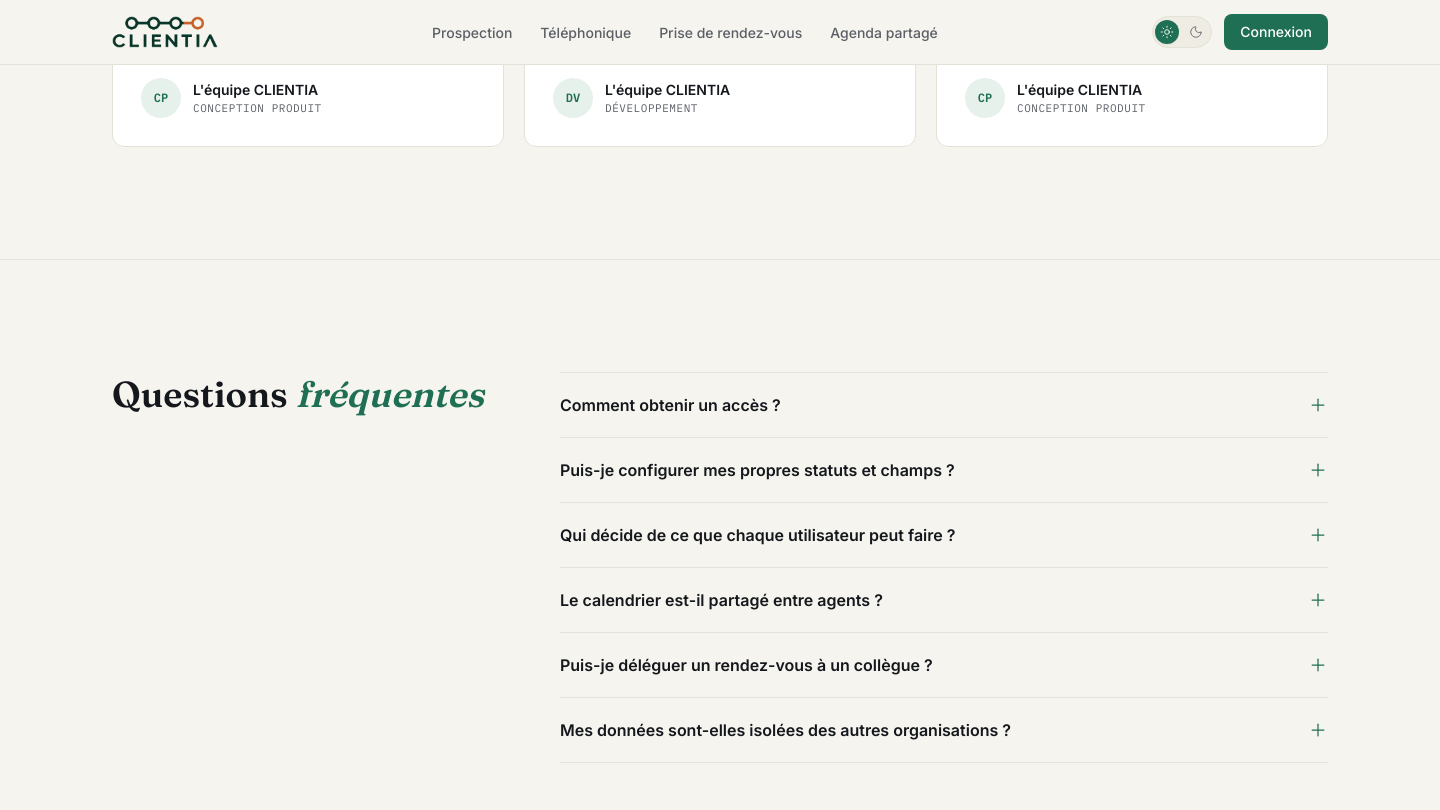
LandingPage › FAQ : 6 questions en accordéon natif, fermées par défaut, ouvertes au clic
(page scrolled)
What coordinates should you click on to do the following:
click the heading "Comment obtenir un accès ?"
I would click on:
 (670, 405)
Its box is [560, 395, 1328, 415].
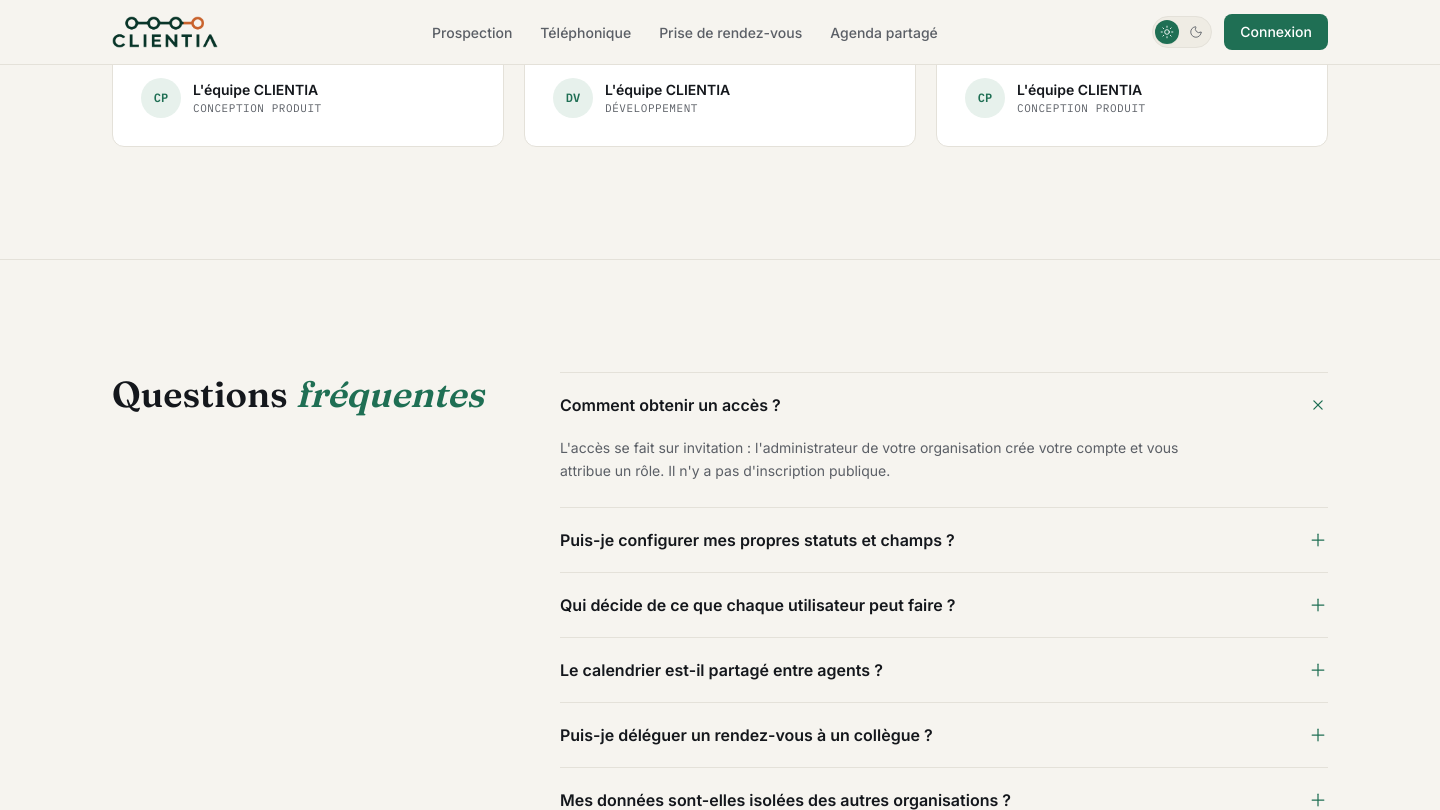
Expected: the element that starts with "Comment obtenir un accès ?" shows "sur invitation", [560, 439, 1178, 479]
